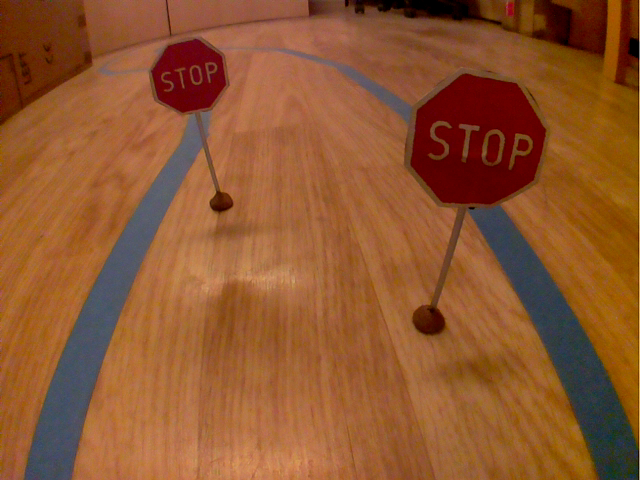Stop: (397, 64, 555, 216), (146, 31, 235, 122)
